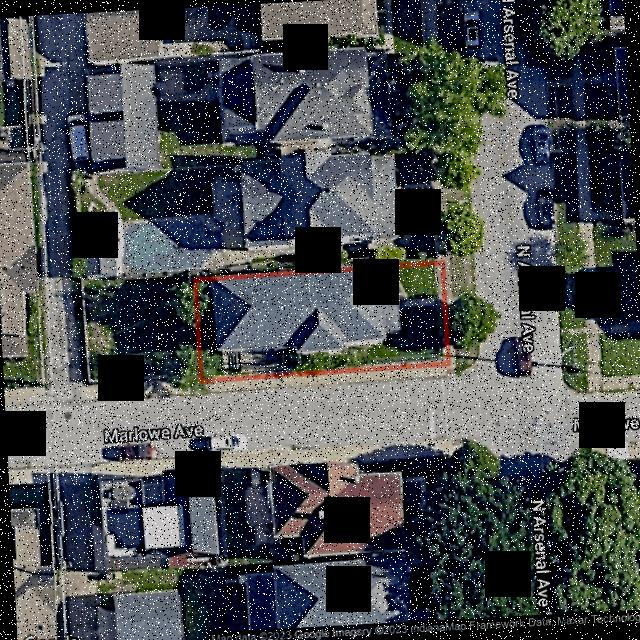Driveway: (390, 269, 436, 306)
Extra Lawn: (450, 260, 475, 301), (454, 347, 478, 363)
Extra Sidewalk: (199, 364, 456, 393), (445, 261, 453, 304), (449, 344, 455, 365)
House: (210, 268, 399, 351)
Other: (221, 347, 296, 374)
Sidewalk: (435, 265, 441, 299)
